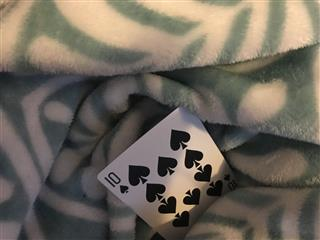TenOfSpades: (95, 105, 238, 240)
